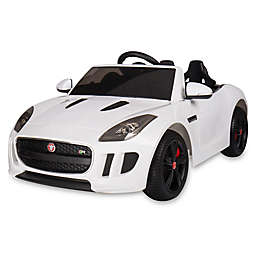car: (6, 50, 251, 202)
